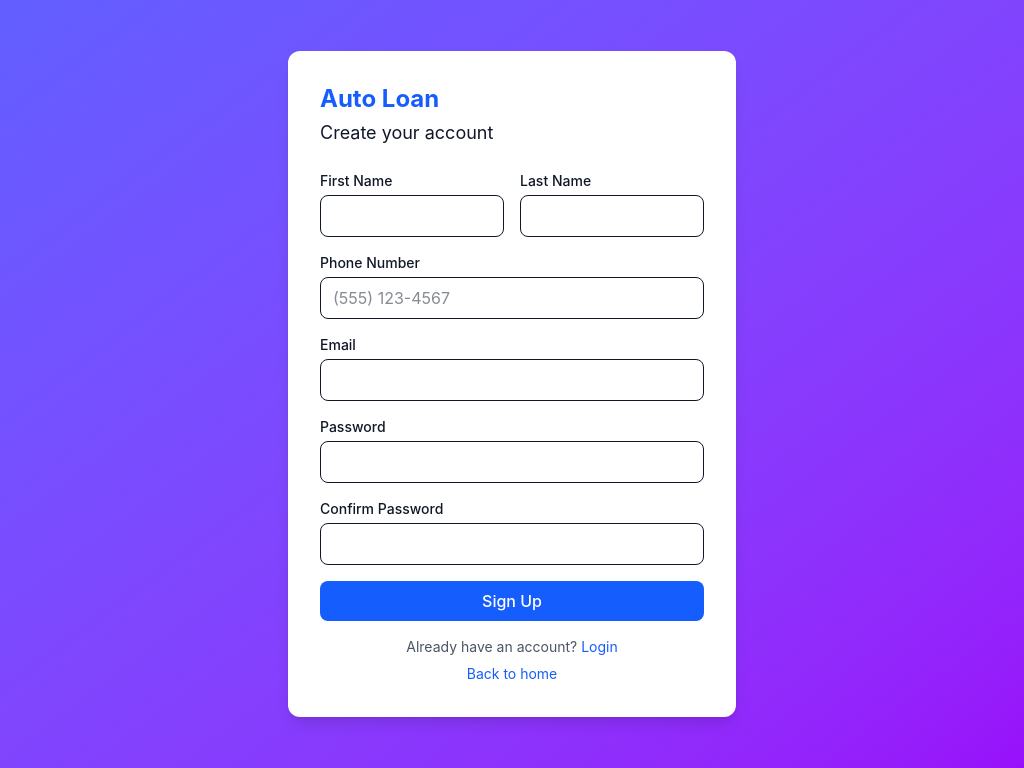
SignupPage › handles non-Error throw
Type "J" into the field labelled "First Name" at (412, 216), box left=320, top=195, right=504, bottom=237
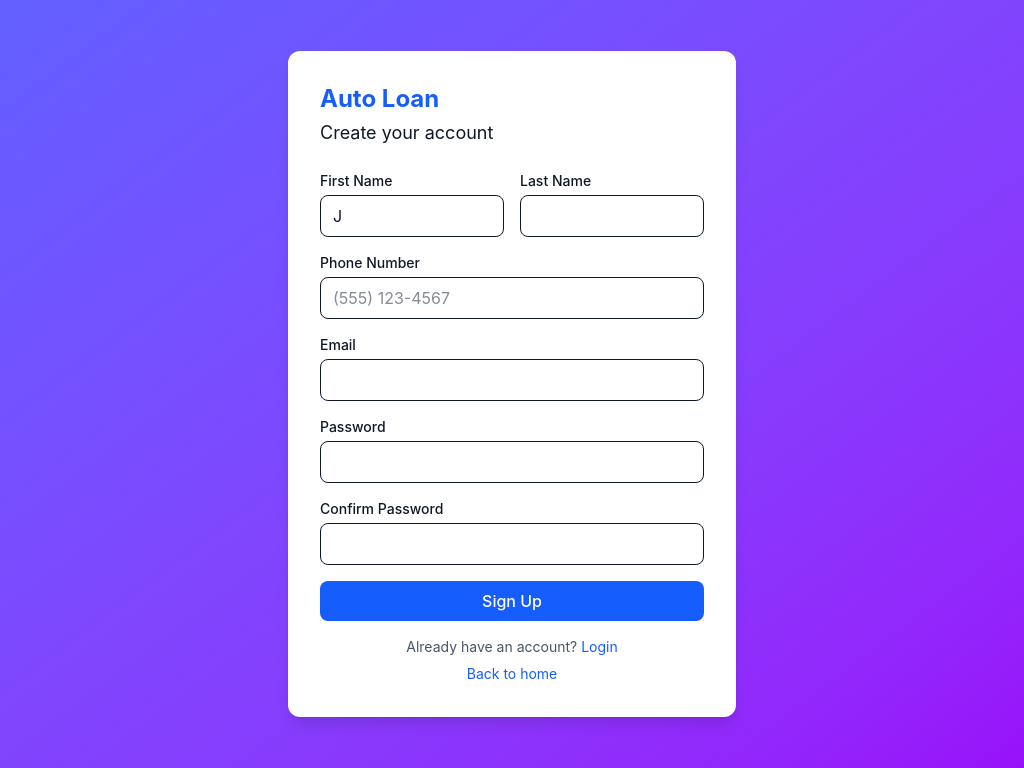
Type "D" into the field labelled "Last Name" at (612, 216), box left=520, top=195, right=704, bottom=237
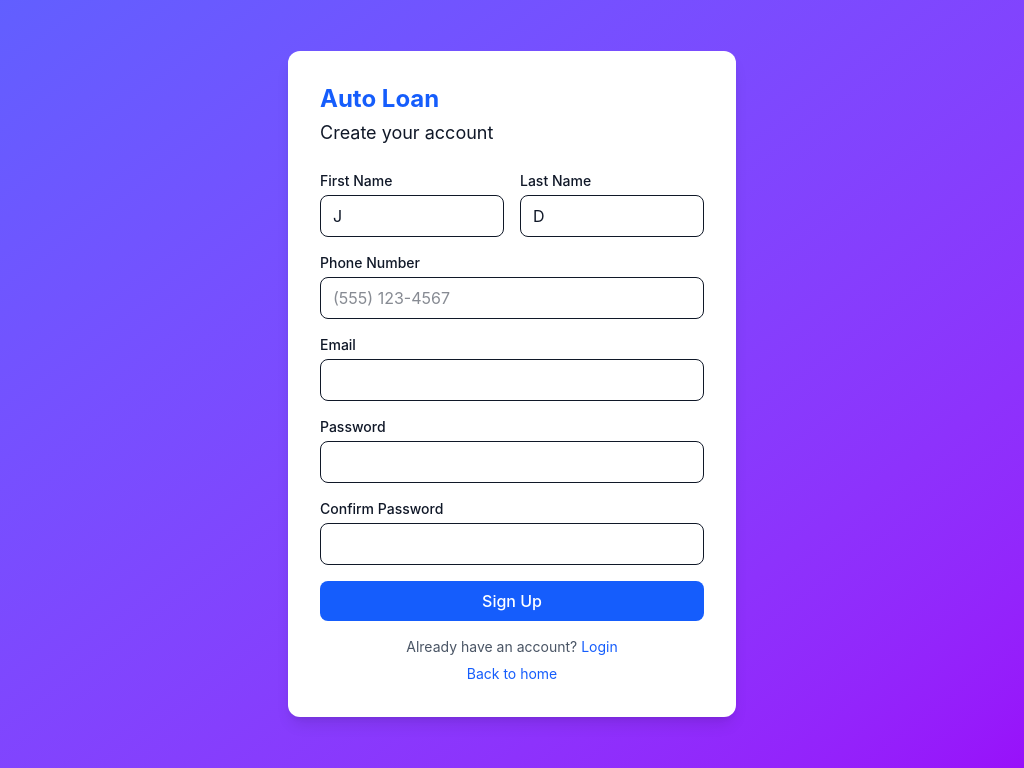
Type "j@d.com" into the field labelled "Email" at (512, 380), box left=320, top=359, right=704, bottom=401
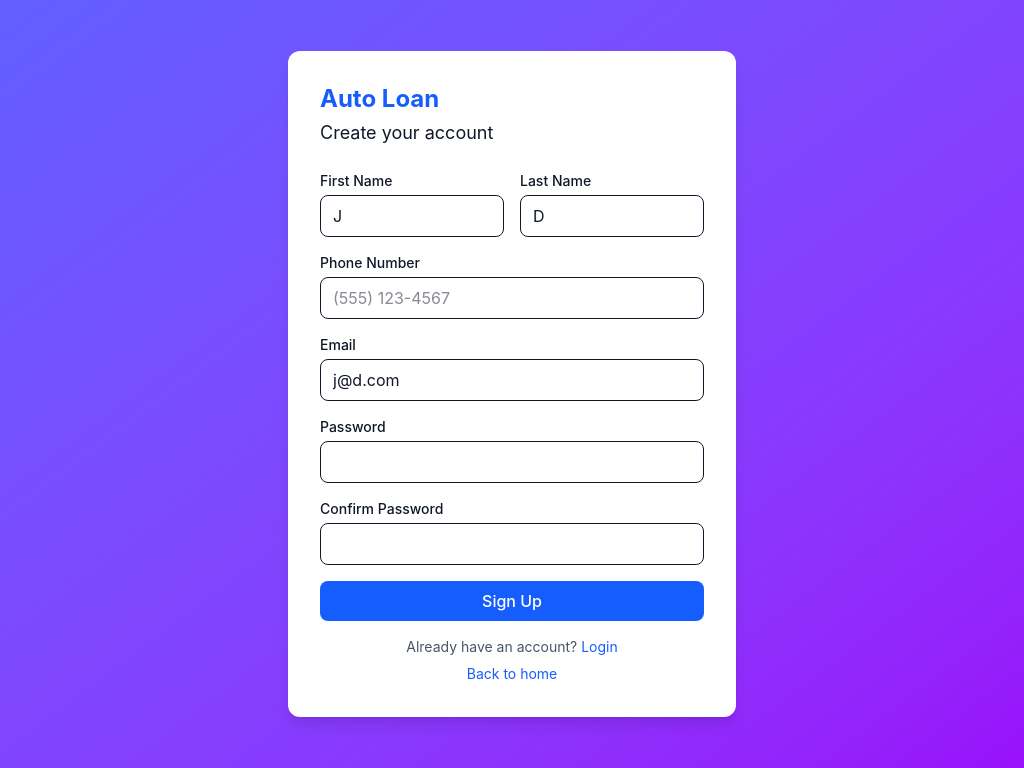
Type "p" into the password field labelled "Password" at (512, 462), box left=320, top=441, right=704, bottom=483
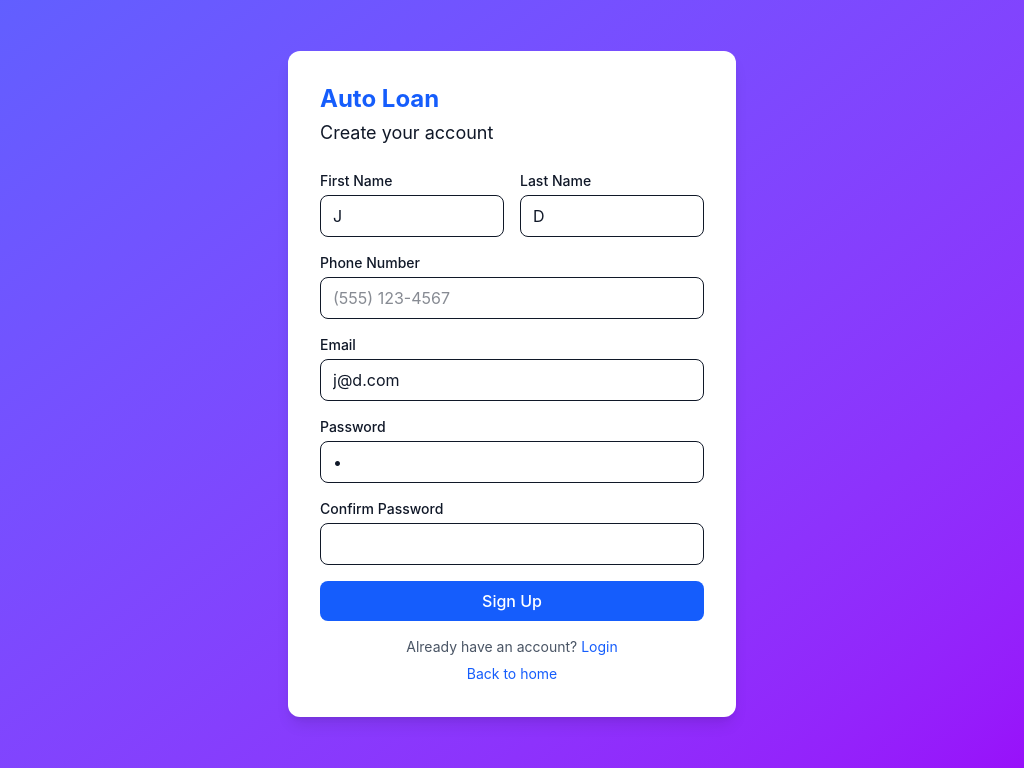
Type "p" into the password field labelled "Confirm Password" at (512, 544), box left=320, top=523, right=704, bottom=565
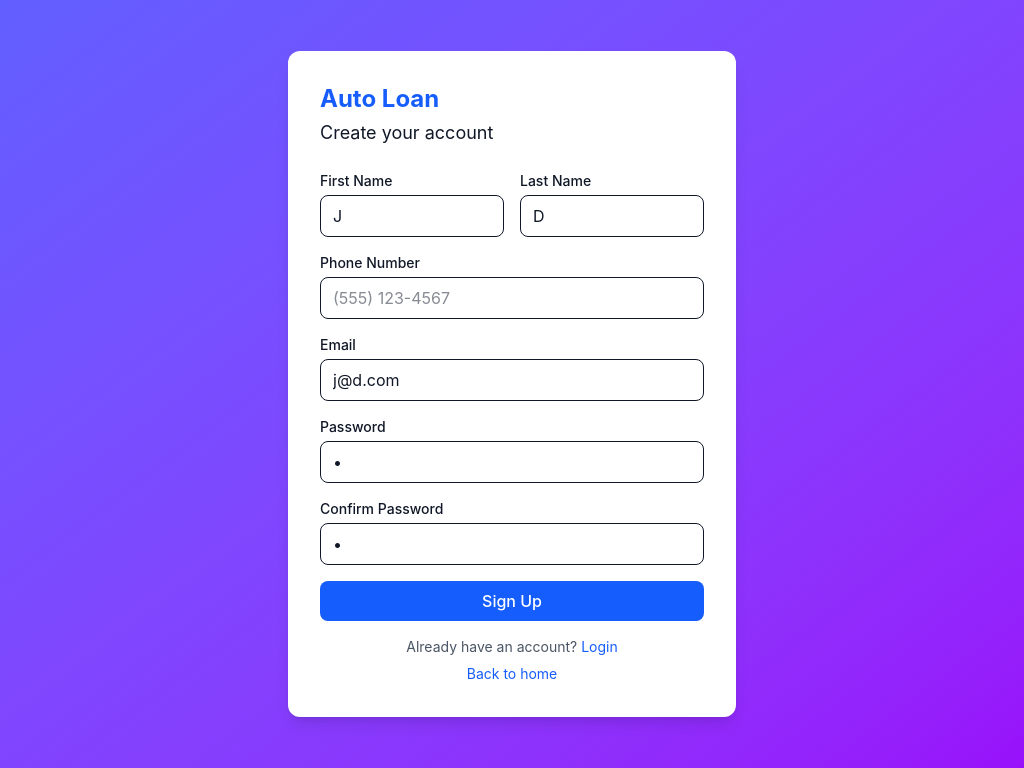
Click the button "Sign Up" at (512, 601), box left=320, top=581, right=704, bottom=621
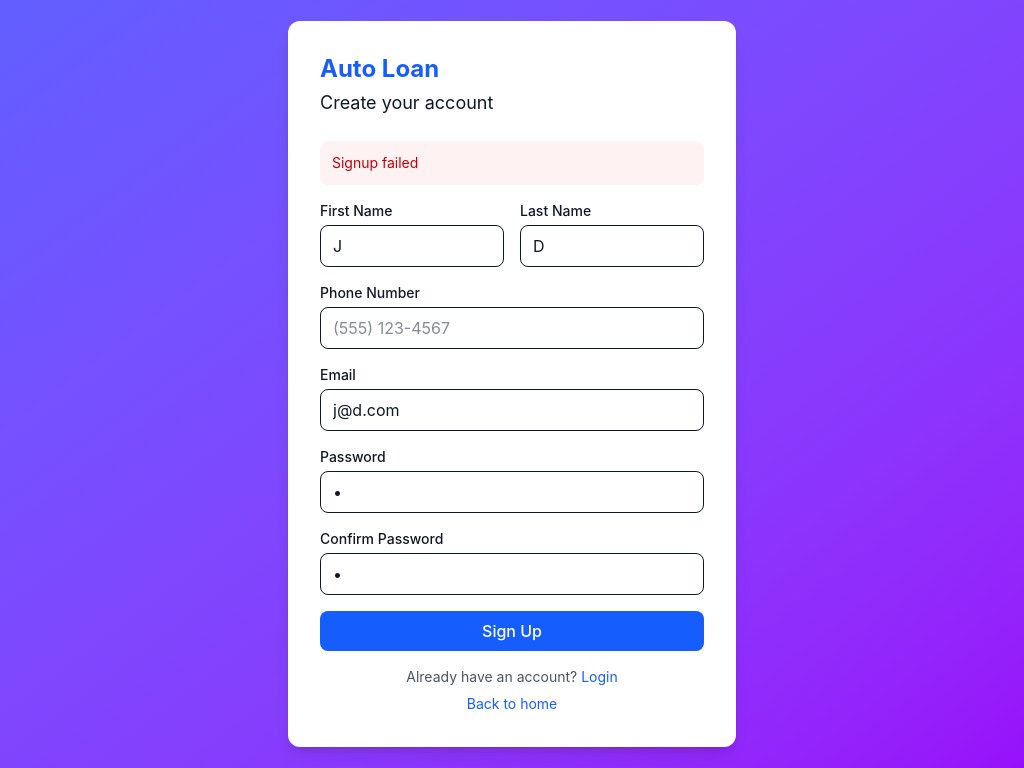
Now the message reads "Signup failed", box left=332, top=154, right=418, bottom=171
